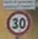limite 30: (5, 9, 32, 36)
